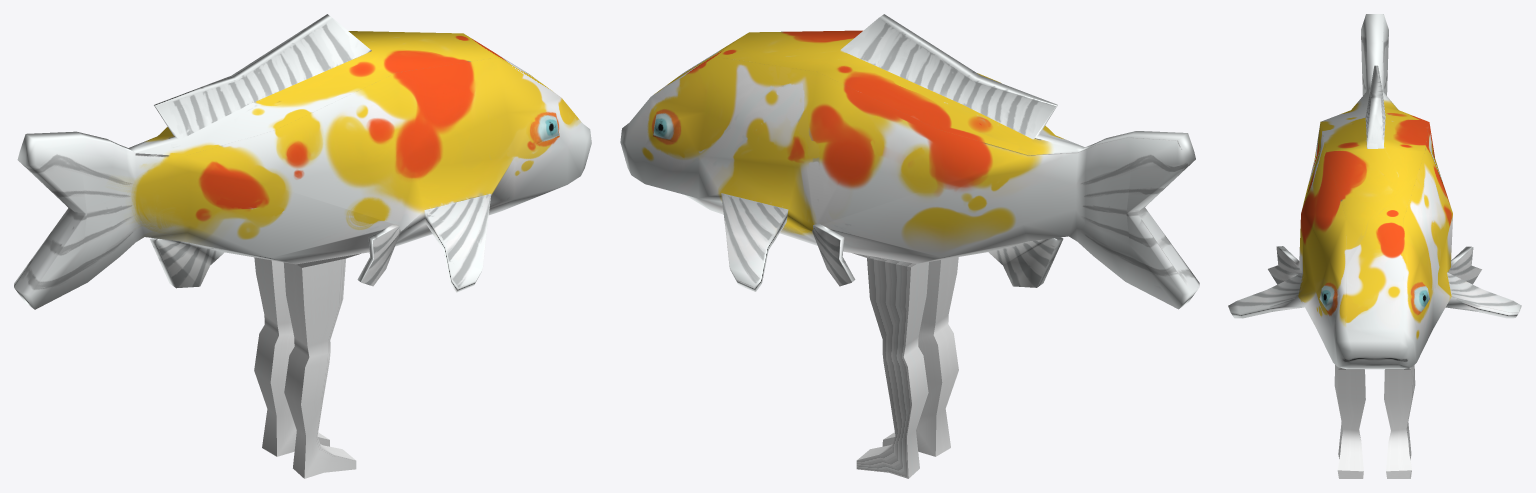
The model's file is vis_fase_2.fbx.
3 views of the same model, side by side, from view 1: azimuth 30°, elevation 25°; view 2: azimuth 150°, elevation 25°; view 3: azimuth 270°, elevation 25° (orthographic). The views are drawn at different scales.
Visible parts, largest first — view 1: pCube3; view 2: pCube3; view 3: pCube3.
Boxes of the visible parts, x1,y1,x2,y2 form: pCube3: [14, 14, 591, 478]; pCube3: [620, 14, 1199, 478]; pCube3: [1228, 14, 1521, 478].
Size of the model in its own units: 2.98 by 2.24 by 1.58.
